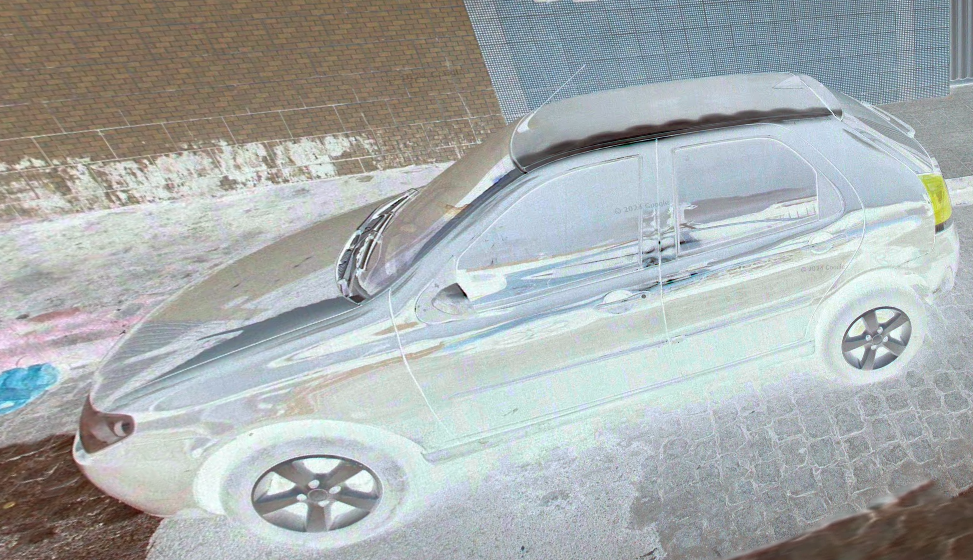car: (75, 66, 954, 544)
